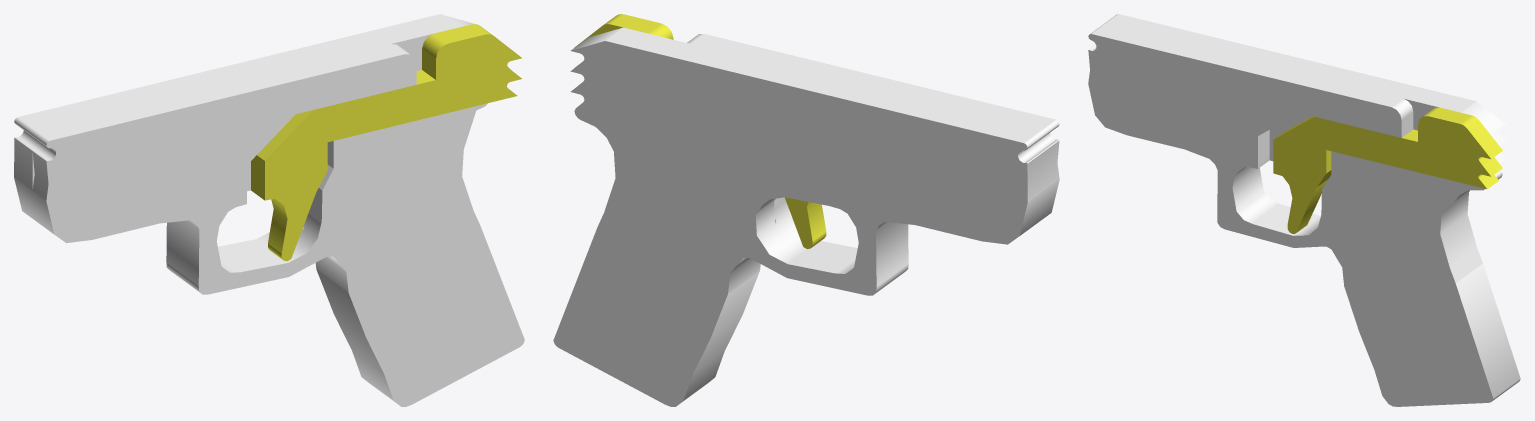
File: RubberGunv1.glb
The picture shows the model from 3 angles, left to right: view 1: azimuth 30°, elevation 25°; view 2: azimuth 150°, elevation 25°; view 3: azimuth 330°, elevation 25°; orthographic projection. The views are drawn at different scales.
Visible parts, largest first — view 1: Těleso1:2, Těleso1:1, Těleso1; view 2: Těleso1, Těleso1:2, Těleso1:1; view 3: Těleso1:2, Těleso1, Těleso1:1.
Part boxes in pixels (bbox=[...]): Těleso1:2: bbox=[32, 44, 524, 406]; Těleso1:1: bbox=[251, 24, 521, 261]; Těleso1: bbox=[14, 14, 487, 394]; Těleso1: bbox=[553, 27, 1045, 406]; Těleso1:2: bbox=[687, 34, 1059, 392]; Těleso1:1: bbox=[574, 14, 826, 248]; Těleso1:2: bbox=[1088, 25, 1504, 406]; Těleso1: bbox=[1102, 14, 1520, 392]; Těleso1:1: bbox=[1273, 107, 1502, 233].
Size of the model in its own units: 0.1197 by 0.0844 by 0.014.
